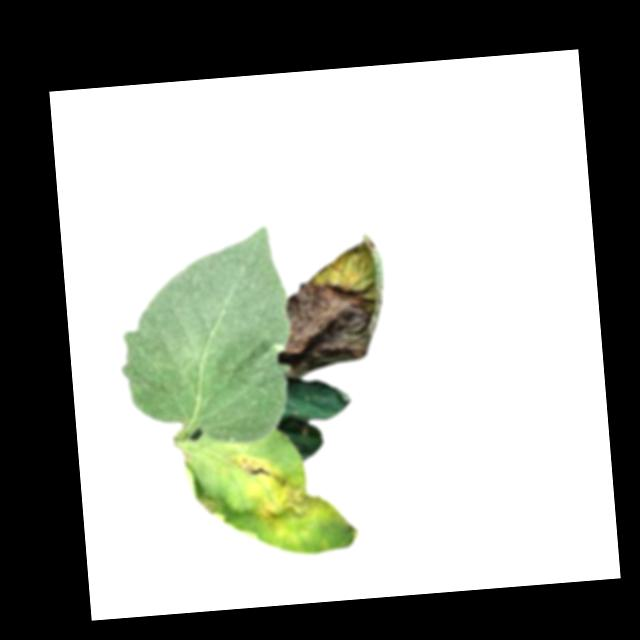Late_blight: (268, 231, 392, 381), (231, 446, 331, 531), (194, 491, 228, 524)
healthy: (109, 223, 299, 451)
